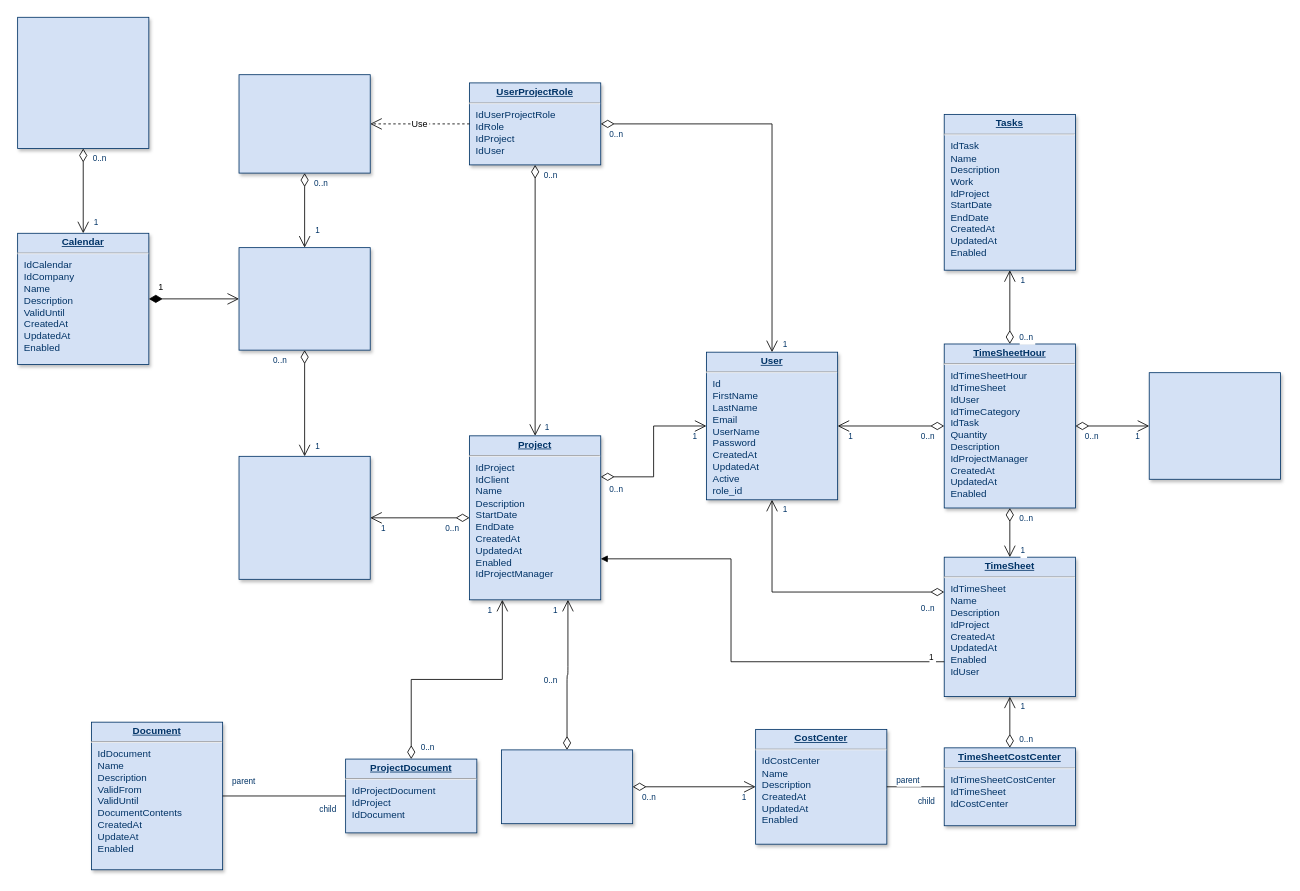
Some shapes in this 1300 by 891 pixel diagram are drawn without their labels. The centre of each missing label's shape, as x and y in pixels:
"Client IdClient IdCompany Name Description CreatedAt UpdatedAt Enabled" belongs at (305,518).
"Company Name Description CreatedAt UpdatedAt Enabled" belongs at (305,300).
"Holiday IdHoliday IdCalendar Name Description Date CreatedAt UpdatedAt Enabled" belongs at (84,83).
"ProjectCostCenter IdProjectCostCenter IdProject IdCostCenter" belongs at (567,787).
"Role IdCompany Name Description CreatedAt UpdatedAt Enabled" belongs at (305,125).
"TimeCategory IdTimeCategory Name Description CreatedAt UpdatedAt Enabled" belongs at (1215,427).
